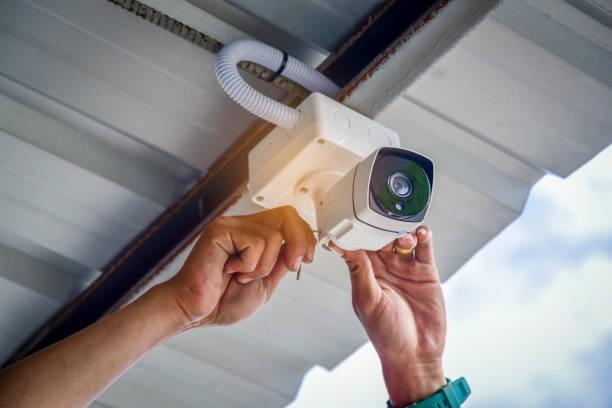camera: (300, 138, 454, 269)
